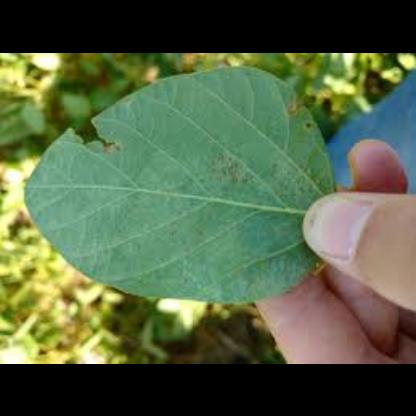agujero: (72, 117, 118, 147), (302, 117, 314, 129)
